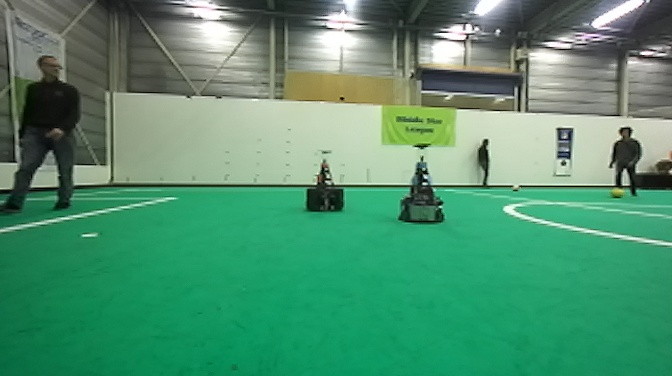ball: (610, 184, 624, 201), (509, 181, 523, 194)
human: (1, 52, 84, 214), (606, 124, 643, 197), (473, 133, 495, 189)
robot: (396, 141, 447, 225), (306, 148, 347, 212)
